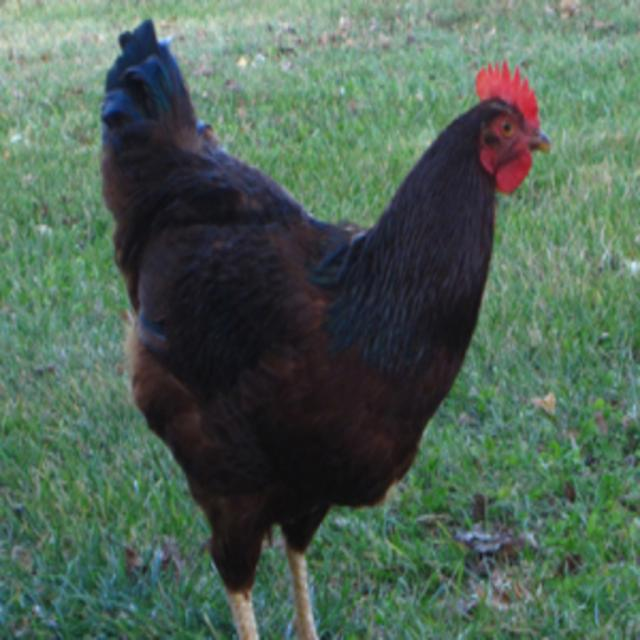Chicken: (96, 17, 544, 637)
